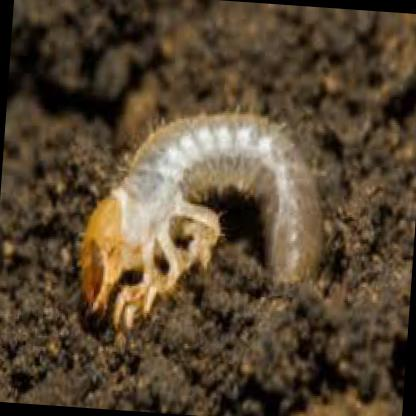root grubs: (77, 109, 324, 335)
